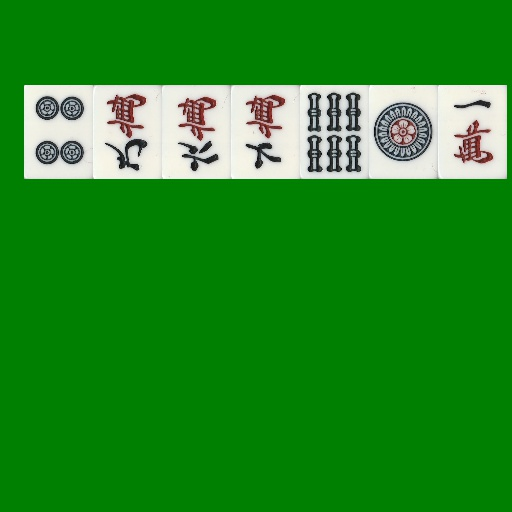1m: (438, 85, 507, 179)
1p: (369, 85, 438, 179)
4p: (24, 85, 93, 179)
6m: (162, 85, 231, 179)
6s: (300, 85, 369, 179)
7m: (231, 85, 300, 179)
9m: (93, 85, 162, 179)
